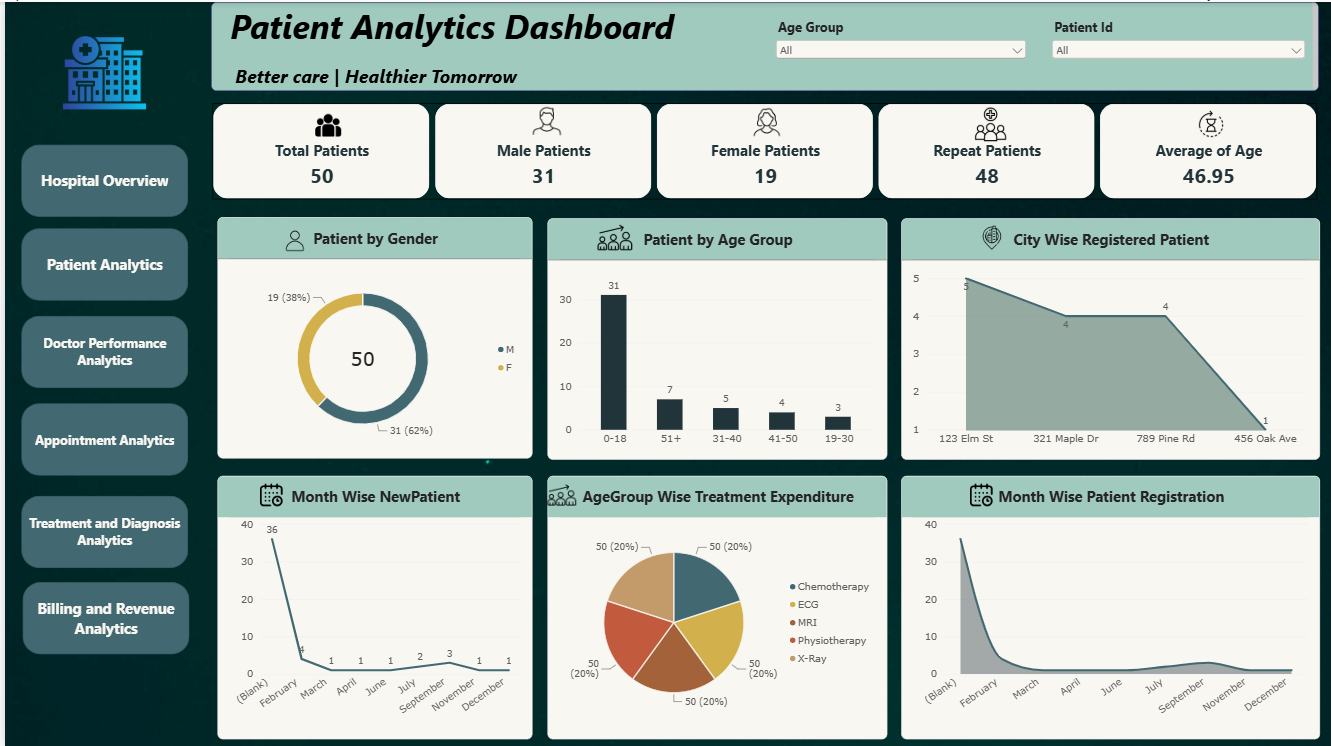

Layout of this report page (visuals, bound fields, positions):
{"tool":"powerbi","page":{"name":"Patient Analytics Dashboard","canvas":[1920,1080],"ordinal":1},"visuals":[{"type":"textbox","box":[298.6,0,1603.4,128.5],"z":0},{"type":"shape","box":[23.5,206.3,241.8,104.8],"z":1000},{"type":"shape","box":[23.5,327.5,241.8,104.8],"z":2000},{"type":"shape","box":[23.5,454.2,241.8,104.8],"z":3000},{"type":"shape","box":[23.5,580.9,241.8,104.8],"z":4000},{"type":"shape","box":[23.5,714.8,241.8,104.8],"z":5000},{"type":"image","box":[76,38,135.7,128.5],"z":6000},{"type":"cardVisual","fields":{"Data":["appointments.Total Patients","appointments.Male Patients","appointments.Female Patients","appointments.Repeat Patients","Avg(patients.Age)"]},"box":[300.4,146.6,1603.4,139.3],"z":7000},{"type":"donutChart","title":"Patient by Gender","fields":{"Category":["patients.gender"],"Y":["CountNonNull(patients.patient_id)"]},"box":[307.6,311.3,456,349.3],"z":8000},{"type":"columnChart","title":"Patient by Age Group","fields":{"Category":["patients.Age Group"],"Y":["CountNonNull(patients.patient_id)"]},"box":[785.4,313.1,492.2,349.3],"z":9000},{"type":"areaChart","title":"City Wise Registered Patient","fields":{"Category":["patients.address"],"Y":["CountNonNull(patients.registration_date)"]},"box":[1297.5,313.1,606.2,349.3],"z":10000},{"type":"lineChart","title":"Month Wise NewPatient","fields":{"Category":["patients.registration_date.Variation.Date Hierarchy.Month"],"Y":["appointments.New Patients"]},"box":[307.6,685.9,456,381.8],"z":11000},{"type":"pieChart","title":"AgeGroup Wise Treatment Expenditure","fields":{"Category":["treatments.treatment_type"],"Y":["CountNonNull(patients.Age Group)"]},"box":[785.4,685.9,492.2,381.8],"z":12000},{"type":"stackedAreaChart","title":"Month Wise Patient Registration","fields":{"Category":["patients.registration_date.Variation.Date Hierarchy.Month"],"Y":["Count(patients.patient_id)"]},"box":[1297.5,685.9,606.2,381.8],"z":13000},{"type":"slicer","fields":{"Values":["patients.Age Group"]},"box":[1111.6,24.2,372.4,80.1],"z":14000},{"type":"slicer","fields":{"Values":["billing.patient_id"]},"box":[1511.9,24.2,376.1,72.6],"z":15000},{"type":"shape","box":[25.3,839.7,241.8,104.8],"z":16000},{"type":"image","box":[437.9,159.3,59.7,38],"z":17000},{"type":"image","box":[763.7,143,41.6,59.7],"z":18000},{"type":"image","box":[1082.2,148.4,41.6,50.7],"z":19000},{"type":"image","box":[1402.5,152,48.9,50.7],"z":20000},{"type":"image","box":[1721,152,50.7,48.9],"z":21000},{"type":"image","box":[401.7,327.5,36.2,38],"z":22000},{"type":"image","box":[857.8,302.2,50.7,77.8],"z":23000},{"type":"image","box":[1404.3,323.9,48.9,34.4],"z":24000},{"type":"image","box":[369.2,694.9,32.6,38],"z":25000},{"type":"image","box":[785.4,671.4,41.6,85.1],"z":26000},{"type":"image","box":[1397.1,694.9,32.6,38],"z":27000}]}

Visuals, with their boxes in screenshot pixels (x1, y1, x2, y2), scaled from the page's 1920x1080 canvas onto the 1331x746 screenshot:
textbox: (207, 0, 1319, 89)
shape: (16, 142, 184, 215)
shape: (16, 226, 184, 299)
shape: (16, 314, 184, 386)
shape: (16, 401, 184, 474)
shape: (16, 494, 184, 566)
image: (53, 26, 147, 115)
cardVisual - appointments.Total Patients x appointments.Male Patients: (208, 101, 1320, 197)
"Patient by Gender" donutChart: (213, 215, 529, 456)
"Patient by Age Group" columnChart: (544, 216, 886, 458)
"City Wise Registered Patient" areaChart: (899, 216, 1320, 458)
"Month Wise NewPatient" lineChart: (213, 474, 529, 738)
"AgeGroup Wise Treatment Expenditure" pieChart: (544, 474, 886, 738)
"Month Wise Patient Registration" stackedAreaChart: (899, 474, 1320, 738)
slicer - patients.Age Group: (771, 17, 1029, 72)
slicer - billing.patient_id: (1048, 17, 1309, 67)
shape: (18, 580, 185, 652)
image: (304, 110, 345, 136)
image: (529, 99, 558, 140)
image: (750, 103, 779, 138)
image: (972, 105, 1006, 140)
image: (1193, 105, 1228, 139)
image: (278, 226, 304, 252)
image: (595, 209, 630, 262)
image: (974, 224, 1007, 247)
image: (256, 480, 279, 506)
image: (544, 464, 573, 523)
image: (969, 480, 991, 506)
